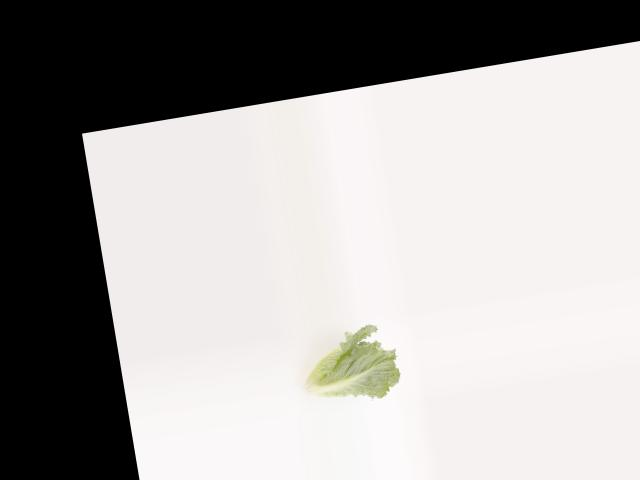lettuce: (287, 324, 406, 413)
